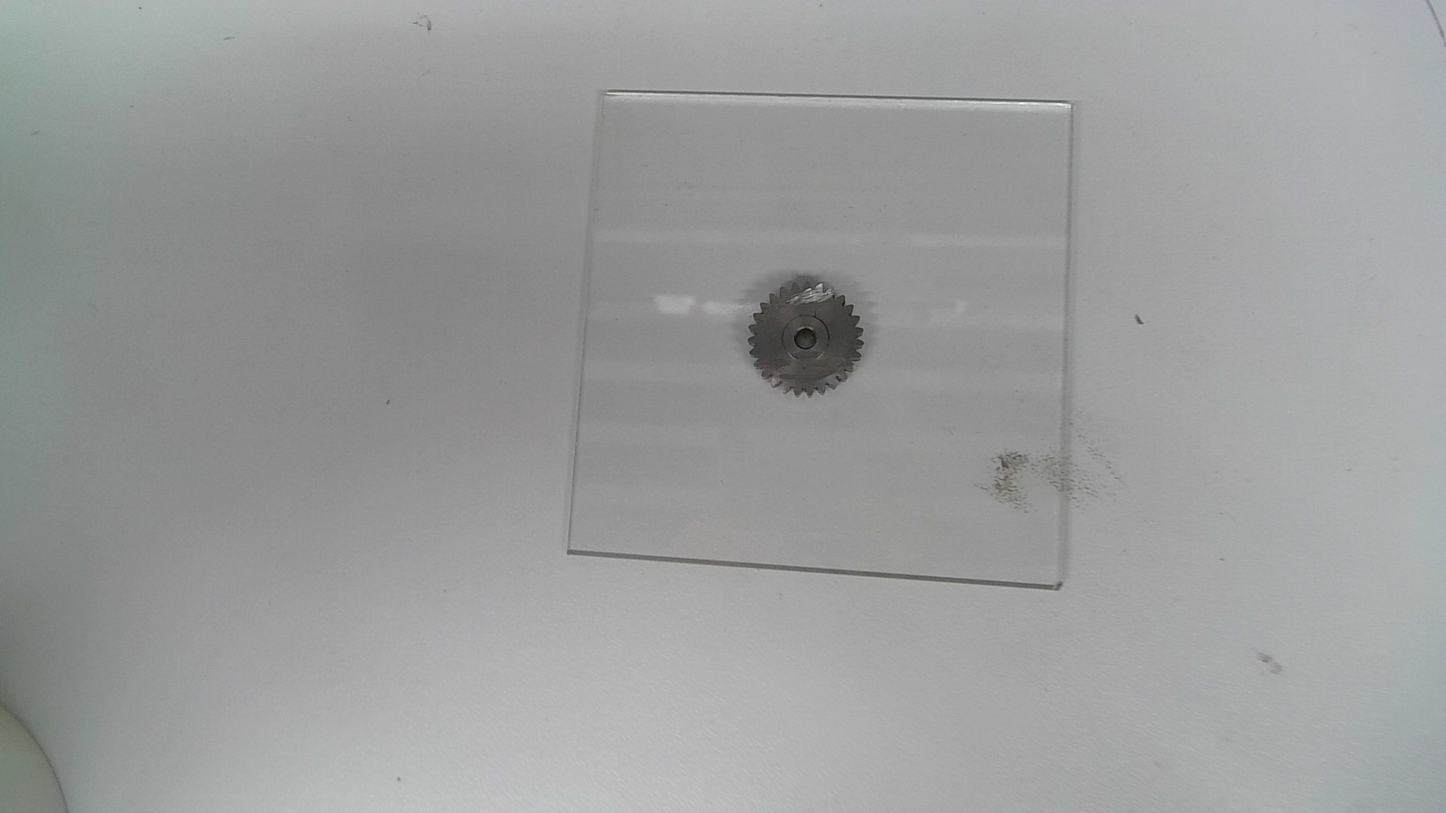gear: (746, 278, 865, 400)
